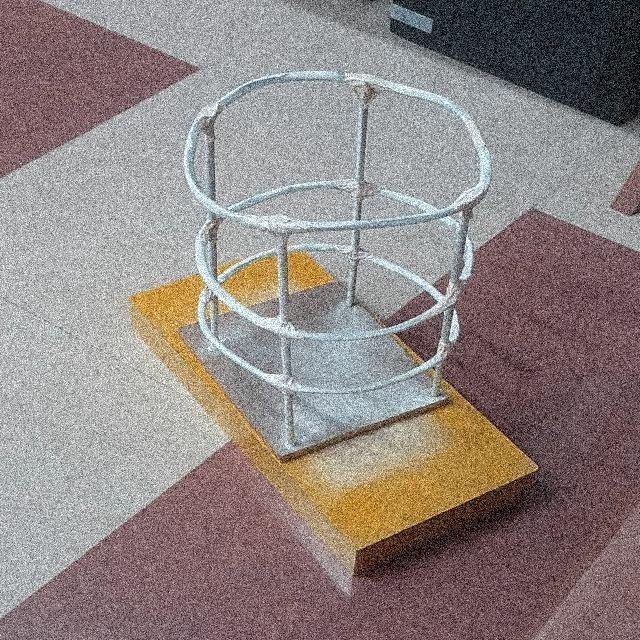silo: (181, 80, 476, 447)
